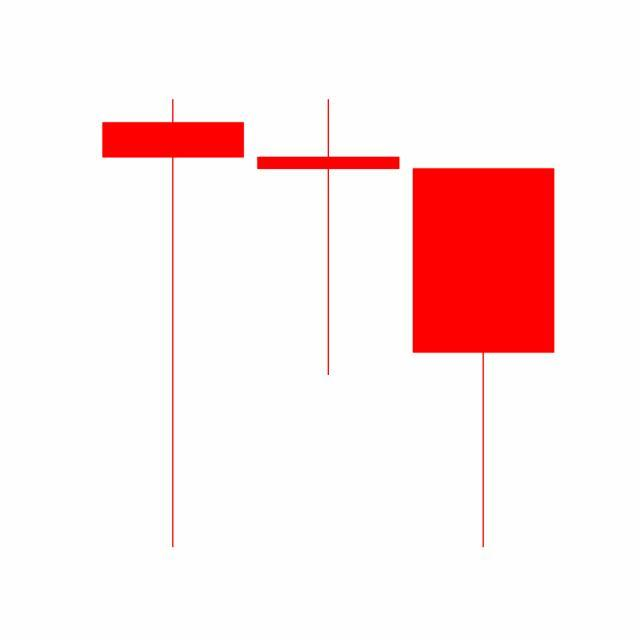Spinning Top: (250, 97, 407, 379)
